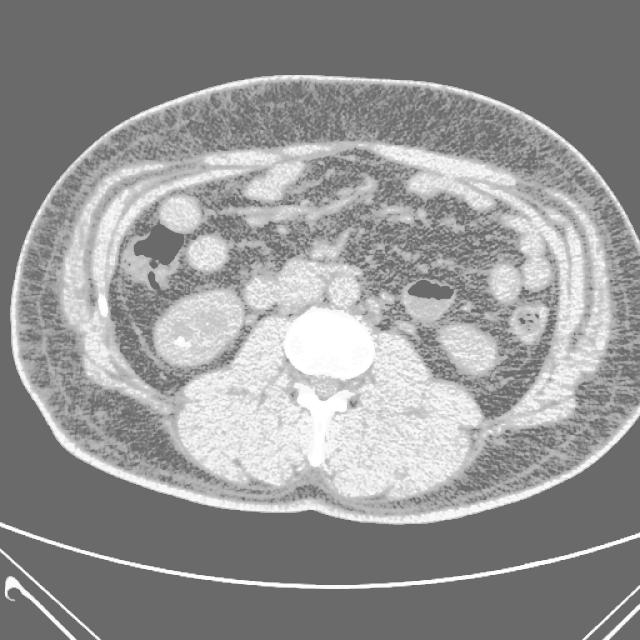STONE: (107, 161, 556, 379)
